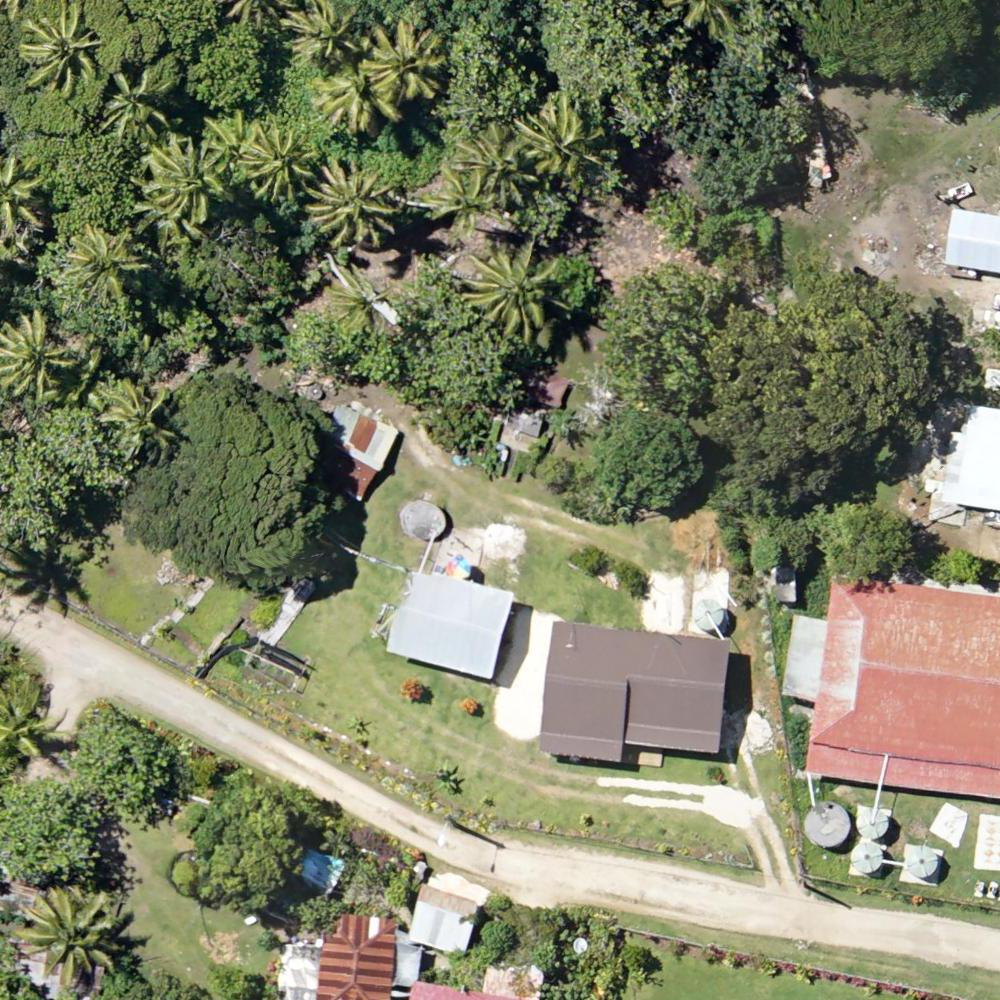Palm: (16, 883, 122, 983), (468, 241, 556, 344), (311, 160, 397, 251), (19, 9, 103, 93), (139, 143, 224, 223), (518, 91, 596, 178), (318, 56, 402, 136), (367, 22, 451, 101), (102, 378, 181, 462), (449, 128, 530, 208), (66, 222, 148, 301), (239, 121, 322, 199), (1, 314, 72, 405), (100, 68, 173, 143), (425, 157, 495, 235)
